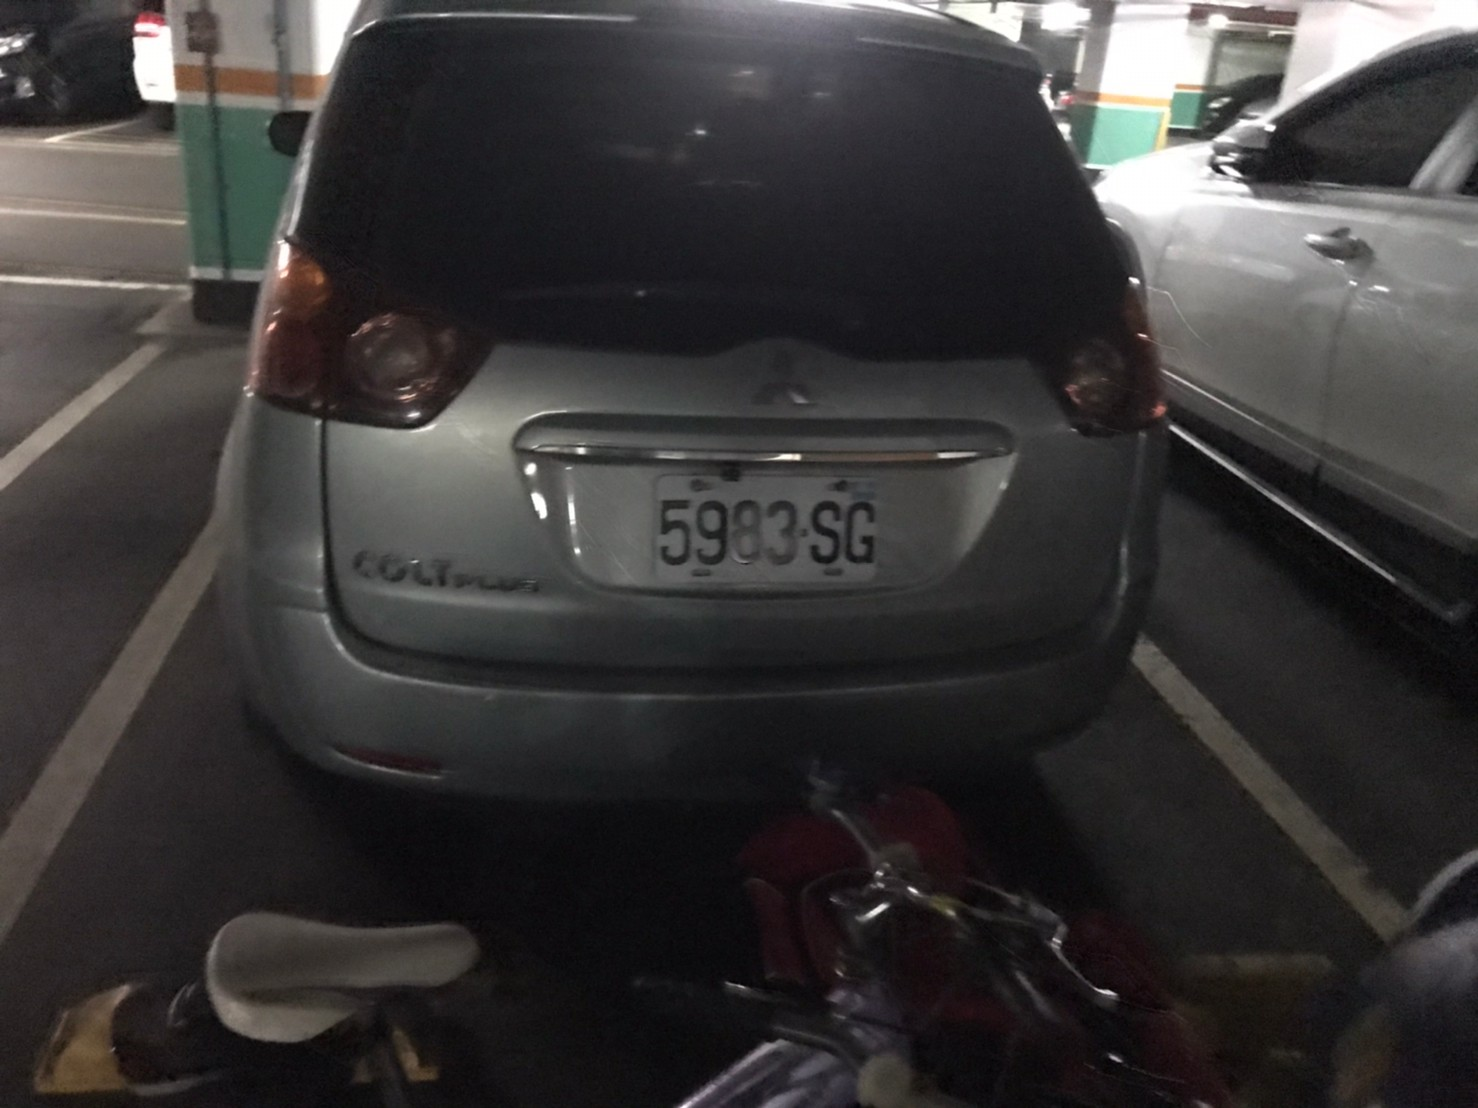LP: (653, 473, 880, 584)
